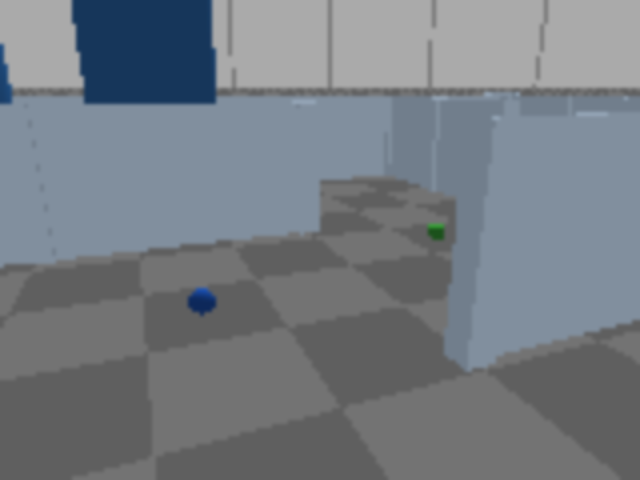person: (0, 0, 36, 252)
puck: (183, 283, 221, 320)
